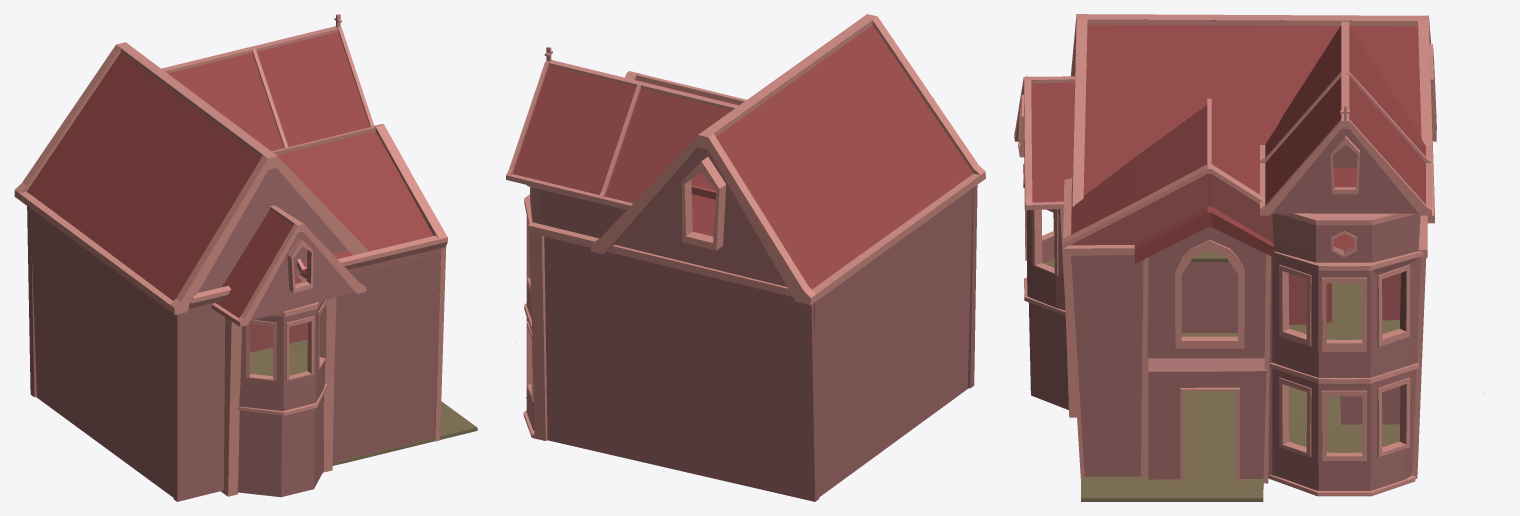
The model's file is house- teenie-tiny-skinny-queenfbx.fbx.
3 renders of one model, left to right at view 1: azimuth 30°, elevation 25°; view 2: azimuth 150°, elevation 25°; view 3: azimuth 270°, elevation 25°, orthographic. The views are drawn at different scales.
Parts seen in each view (by area): view 1: roof.002, back wall, front wall, roof.001, roof trim.001, roof, fix, roof wall.001, mid walls, collums, trim, L bay (+6 smaller); view 2: Cube, roof.002, back wall, roof.001, roof trim.001, roof wall.001, collums, roof trim, wall, window cross.001, fix, window frame (+2 smaller); view 3: roof.002, mid walls, bay window, floor, front wall, roof.001, roof, window frame, roof trim.001, collums, roof wall, roof.003 (+13 smaller).
Boxes of the visible parts, x1,y1,x2,y2 form: roof.002: (27,52,354,317); back wall: (29,207,173,497); front wall: (332,248,440,462); roof.001: (168,32,369,151); roof trim.001: (14,42,368,326); roof: (277,131,433,283); fix: (173,275,306,501); roof wall.001: (198,168,354,320); mid walls: (237,396,323,497); collums: (221,247,446,496); trim: (188,124,447,308); L bay: (239,300,325,411); Cube: (544,236,819,501); roof.002: (716,25,973,289); back wall: (814,188,972,496); roof.001: (512,66,736,203); roof trim.001: (591,14,985,305); roof wall.001: (615,148,786,286); collums: (527,222,792,440); roof trim: (506,59,738,209); wall: (530,187,626,238); window cross.001: (681,157,726,250); fix: (967,185,977,388); window frame: (523,194,534,437); roof.002: (1031,19,1421,202); mid walls: (1028,227,1266,479); bay window: (1269,256,1483,490); floor: (1044,250,1399,501); front wall: (1071,255,1143,476); roof.001: (1265,25,1425,204); roof: (1071,105,1275,263); window frame: (1268,251,1423,496); roof trim.001: (1014,14,1434,223); collums: (1060,209,1427,483); roof wall: (1272,129,1418,213); roof.003: (1070,173,1273,245).
Size of the model in its own units: 852 by 893 by 1033.
